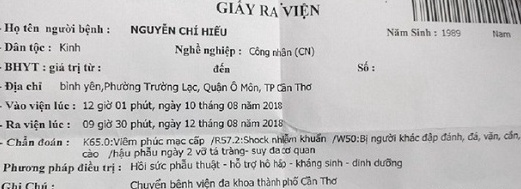add: (103, 79, 141, 94), (144, 80, 180, 95), (202, 79, 229, 94), (57, 78, 82, 93), (239, 80, 266, 93), (293, 80, 318, 94), (180, 79, 202, 94), (82, 79, 104, 93), (275, 81, 294, 93), (228, 78, 240, 92), (265, 83, 276, 95)
birth: (440, 26, 463, 39)
come_time: (199, 99, 225, 114), (157, 100, 184, 113), (130, 99, 154, 111), (262, 100, 285, 112), (241, 100, 262, 113), (97, 98, 114, 112), (79, 98, 94, 113), (225, 99, 240, 112), (114, 99, 128, 112), (184, 99, 198, 111)
diagnostic: (79, 136, 114, 149), (208, 134, 244, 146), (440, 130, 466, 144), (160, 146, 185, 160), (243, 133, 271, 145), (132, 146, 159, 158), (502, 127, 521, 144), (483, 129, 503, 145), (331, 134, 360, 145), (293, 145, 322, 156), (139, 135, 165, 147), (270, 134, 298, 145), (114, 135, 139, 147), (107, 147, 132, 159), (399, 131, 422, 144), (220, 147, 247, 158), (299, 133, 327, 143), (165, 135, 187, 147), (373, 133, 397, 144), (466, 129, 483, 144), (80, 148, 101, 160), (250, 146, 270, 158), (194, 146, 211, 159), (187, 135, 207, 146), (423, 131, 439, 144), (208, 145, 222, 157), (280, 146, 294, 157), (268, 146, 283, 156), (183, 145, 194, 158), (360, 133, 370, 144)
job: (247, 44, 273, 59), (294, 43, 316, 59), (272, 44, 294, 58)
name: (128, 21, 178, 37), (178, 21, 200, 37), (201, 23, 228, 36)
nation: (57, 38, 82, 54)
note: (128, 175, 168, 189), (257, 173, 282, 189), (168, 174, 194, 189), (231, 175, 255, 189), (195, 175, 216, 189), (282, 173, 300, 189), (320, 175, 342, 188), (301, 174, 320, 189), (216, 175, 232, 189)
out_time: (130, 118, 156, 132), (157, 117, 183, 131), (198, 117, 225, 130), (263, 118, 288, 129), (240, 118, 262, 130), (96, 118, 114, 132), (114, 117, 129, 132), (81, 118, 96, 132), (225, 117, 240, 128), (184, 117, 196, 129)
sex: (488, 26, 513, 41)
solution: (373, 156, 402, 171), (194, 159, 221, 172), (168, 160, 194, 173), (297, 157, 323, 170), (323, 157, 344, 169), (352, 157, 373, 169), (130, 160, 148, 173), (149, 160, 168, 172), (229, 156, 244, 171), (242, 159, 260, 171), (257, 159, 273, 171), (273, 156, 287, 169), (287, 158, 295, 170), (221, 159, 229, 170), (344, 156, 351, 167)
